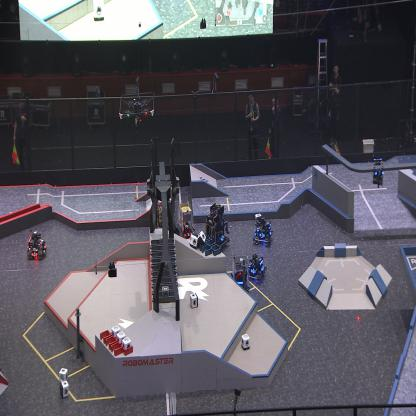car: (203, 201, 230, 250), (154, 199, 176, 243), (229, 255, 251, 297), (176, 200, 197, 244), (26, 229, 48, 258), (248, 251, 267, 284), (252, 218, 272, 246)
